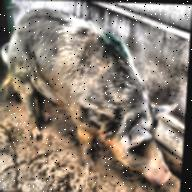boar: (0, 6, 183, 186)
